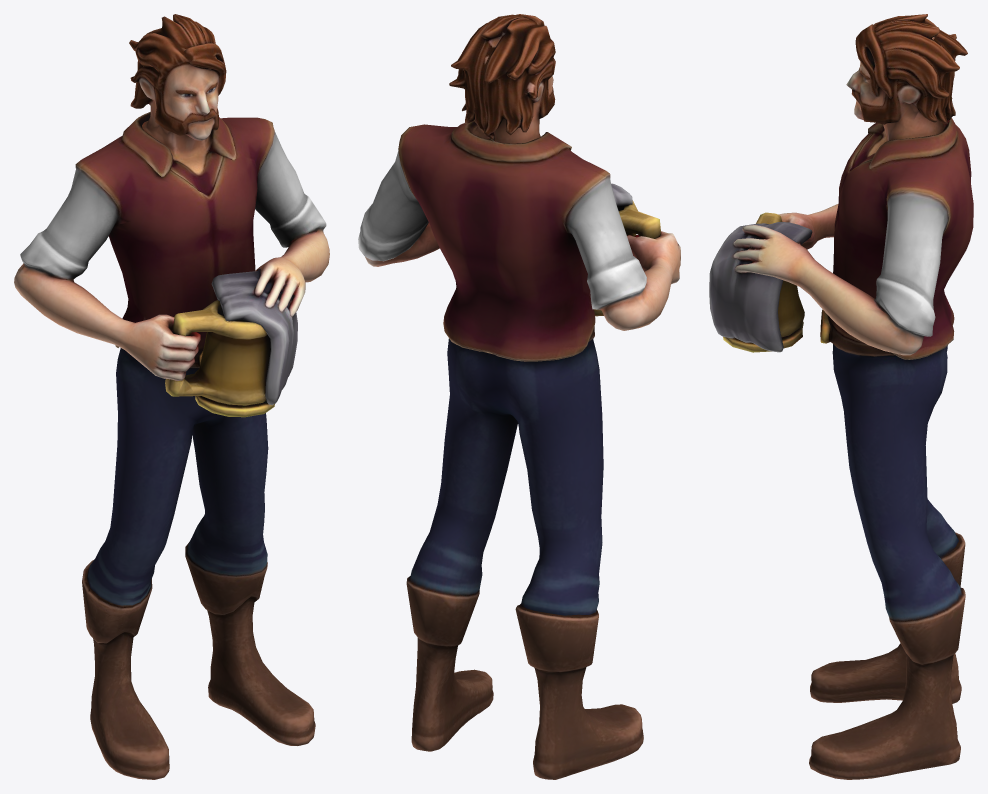
The model's file is MZ4250 - Commoner Barkeep.glb.
The picture shows the model from 3 angles, left to right: view 1: azimuth 30°, elevation 25°; view 2: azimuth 150°, elevation 25°; view 3: azimuth 270°, elevation 25°; orthographic projection. The views are drawn at different scales.
Parts seen in each view (by area): view 1: body_low.001, beer_low.001; view 2: body_low.001, beer_low.001; view 3: body_low.001, beer_low.001.
Part boxes in pixels (x1,y1,x2,y2): body_low.001: [14, 14, 329, 779]; beer_low.001: [165, 300, 274, 417]; body_low.001: [358, 14, 680, 779]; beer_low.001: [594, 200, 660, 316]; body_low.001: [709, 14, 973, 779]; beer_low.001: [723, 212, 804, 352].
Bounding box in the file's own units: 2.62 × 6.1 × 2.05.
1 material, 1 textured.
